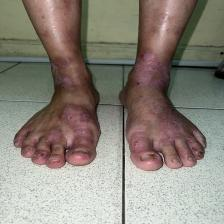DA: (139, 112, 189, 139), (56, 103, 95, 133), (138, 93, 170, 111)
